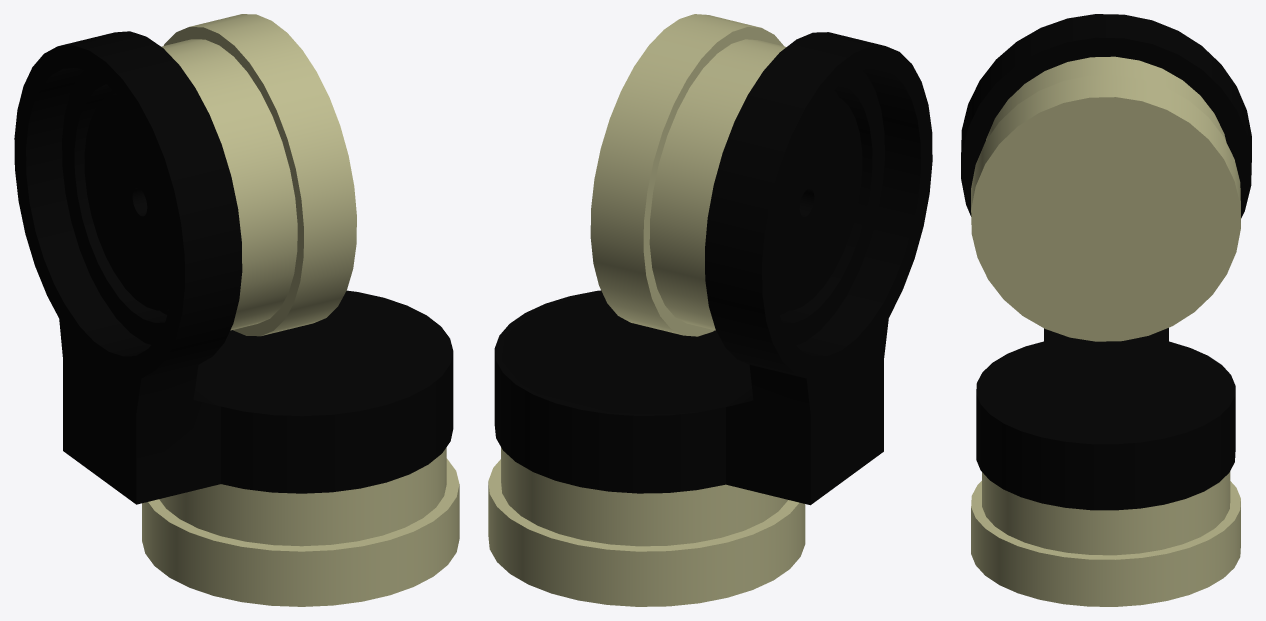
The picture shows the model from 3 angles, left to right: view 1: azimuth 30°, elevation 25°; view 2: azimuth 150°, elevation 25°; view 3: azimuth 270°, elevation 25°; orthographic projection. The views are drawn at different scales.
Parts seen in each view (by area): view 1: v_wb_link_1; view 2: v_wb_link_1; view 3: v_wb_link_1.
Boxes of the visible parts, x1,y1,x2,y2 form: v_wb_link_1: [14, 14, 459, 606]; v_wb_link_1: [488, 14, 932, 606]; v_wb_link_1: [961, 14, 1251, 606].
Bounding box in the file's own units: 0.1597 × 0.1397 × 0.2399.
1 material, 1 textured.
